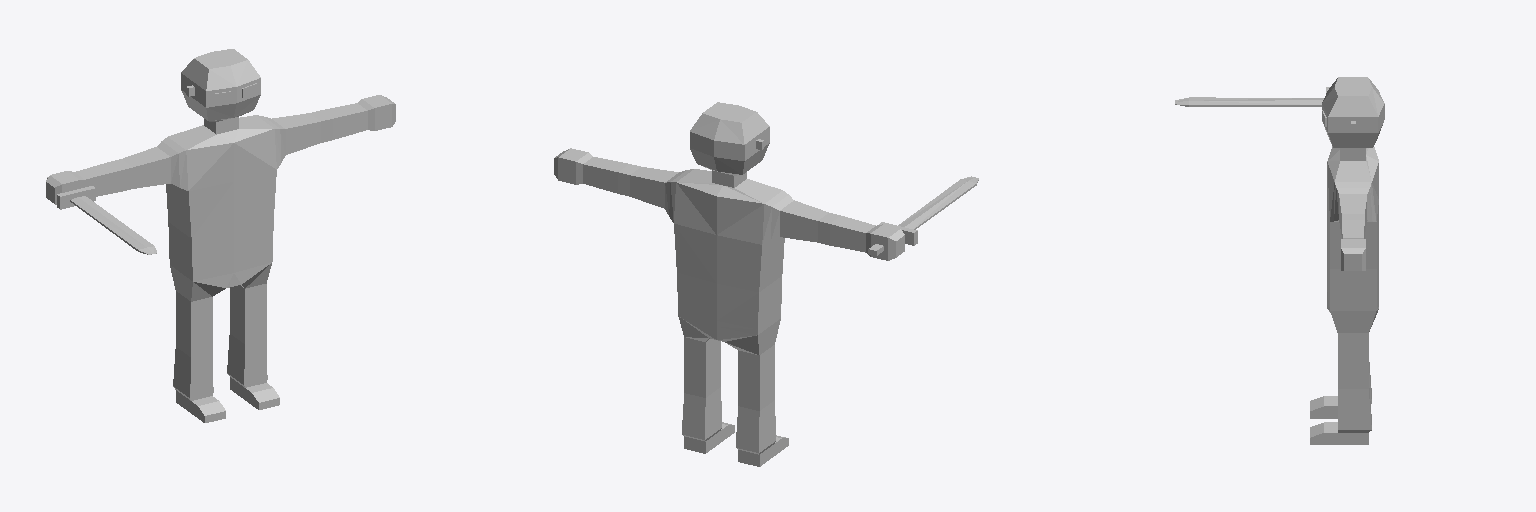
File: testplayer2.obj
3 views of the same model, side by side, from view 1: azimuth 30°, elevation 25°; view 2: azimuth 150°, elevation 25°; view 3: azimuth 270°, elevation 25° (orthographic).
Parts seen in each view (by area): view 1: Body_Cube, sword_Cube.001; view 2: Body_Cube, sword_Cube.001; view 3: Body_Cube, sword_Cube.001.
Part boxes in pixels (x1,y1,x2,y2): Body_Cube: (46,49,395,422); sword_Cube.001: (47,177,156,254); Body_Cube: (554,102,904,466); sword_Cube.001: (868,176,978,255); Body_Cube: (1310,77,1384,444); sword_Cube.001: (1175,87,1329,106).
Bounding box in the file's own units: 5.82 × 5.48 × 3.06.